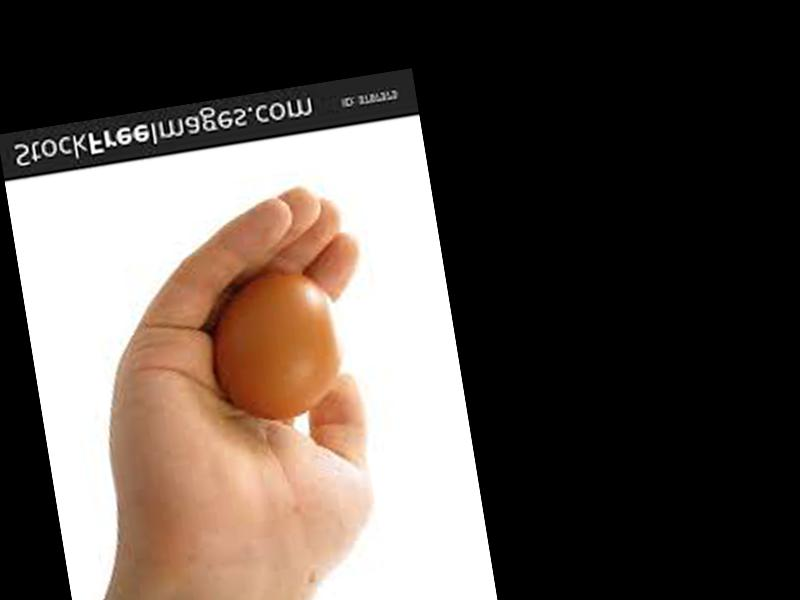Eggs: (204, 254, 350, 429)
